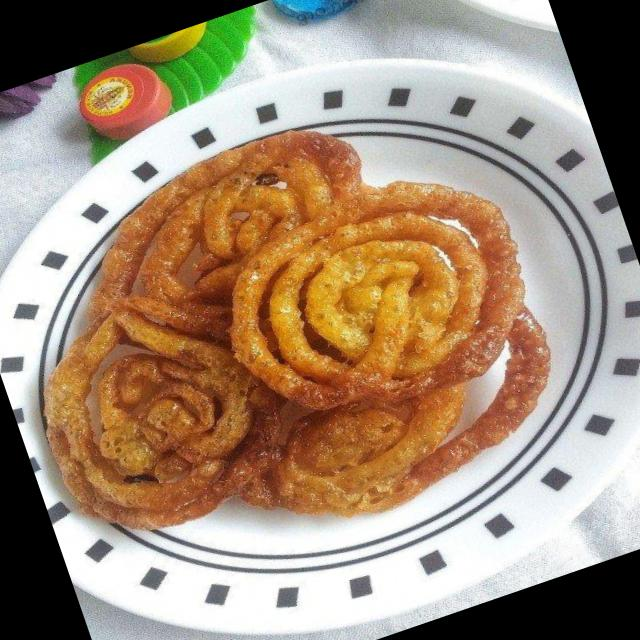jalebi: (0, 61, 589, 601)
